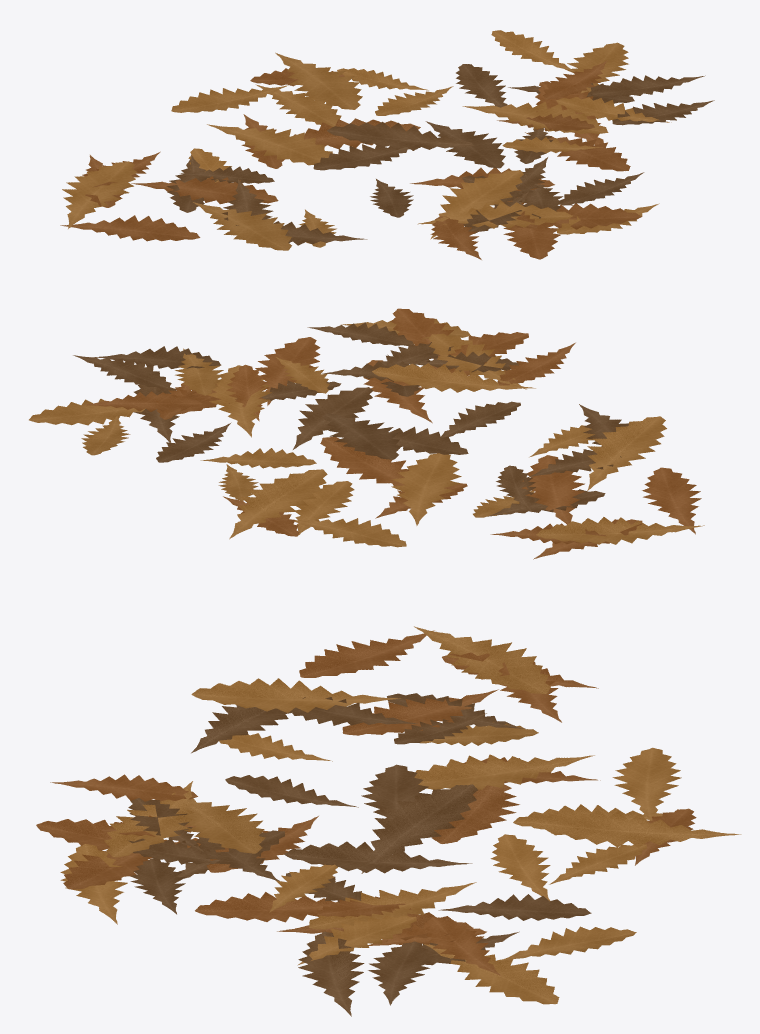
Rendered from OakLeafLitter.glb.
3 views of the same model, one above another, from view 1: azimuth 30°, elevation 25°; view 2: azimuth 150°, elevation 25°; view 3: azimuth 270°, elevation 25° (orthographic). The views are drawn at different scales.
Parts seen in each view (by area): view 1: Curled fallen leaves 2, Curled fallen leaves 3, Curled fallen leaves 1; view 2: Curled fallen leaves 2, Curled fallen leaves 3, Curled fallen leaves 1; view 3: Curled fallen leaves 2, Curled fallen leaves 3, Curled fallen leaves 1.
Boxes of the visible parts, left/top/right/bottom form: Curled fallen leaves 2: left=62, top=30, right=671, bottom=250; Curled fallen leaves 3: left=166, top=64, right=714, bottom=245; Curled fallen leaves 1: left=60, top=60, right=642, bottom=259; Curled fallen leaves 2: left=29, top=316, right=704, bottom=547; Curled fallen leaves 3: left=73, top=322, right=628, bottom=516; Curled fallen leaves 1: left=83, top=308, right=701, bottom=559; Curled fallen leaves 2: left=60, top=626, right=741, bottom=1004; Curled fallen leaves 3: left=128, top=693, right=591, bottom=1016; Curled fallen leaves 1: left=36, top=630, right=696, bottom=976.
Bounding box in the file's own units: 0.5833 × 0.0233 × 0.4366.
Materials: 3 (3 with a texture image).
